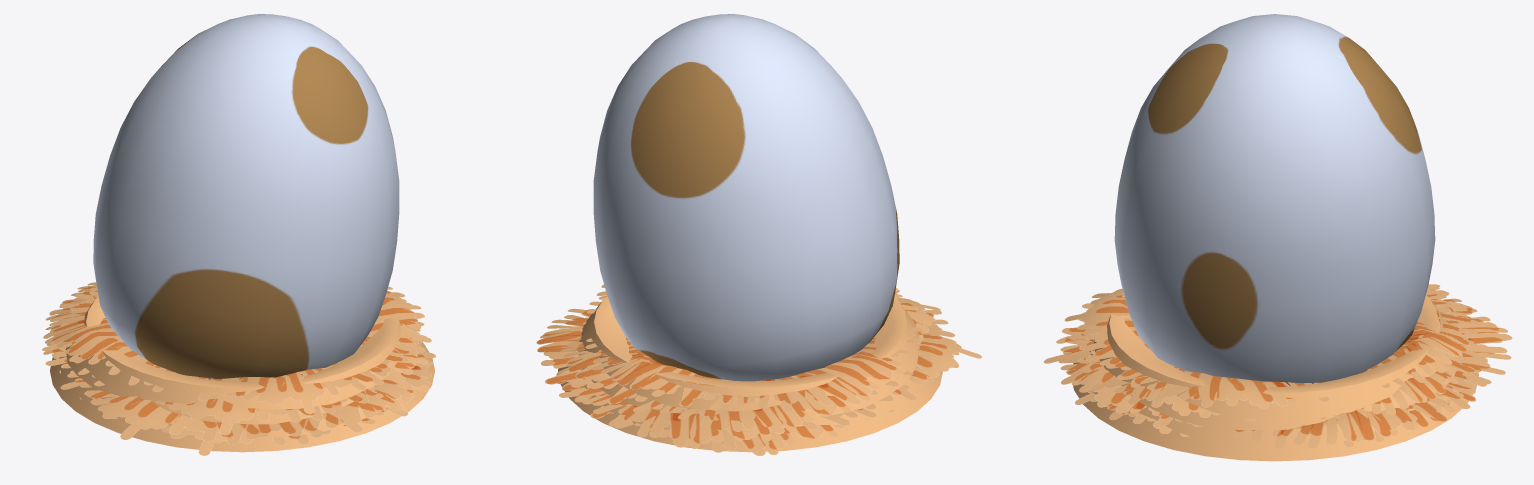
Rendered from Egg_02.fbx.
The picture shows the model from 3 angles, left to right: view 1: azimuth 30°, elevation 25°; view 2: azimuth 150°, elevation 25°; view 3: azimuth 270°, elevation 25°; orthographic projection. The views are drawn at different scales.
Parts seen in each view (by area): view 1: Egg1; view 2: Egg1; view 3: Egg1.
Part boxes in pixels (<box>): Egg1: <box>42,14,436,455</box>; Egg1: <box>536,14,982,455</box>; Egg1: <box>1043,14,1512,461</box>.
Size of the model in its own units: 670 by 572 by 670.
Materials: 2 (2 with a texture image).
